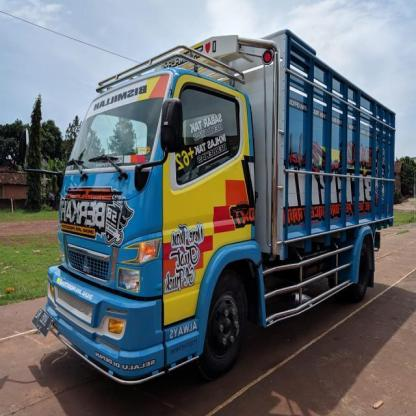truck: (38, 29, 397, 388)
